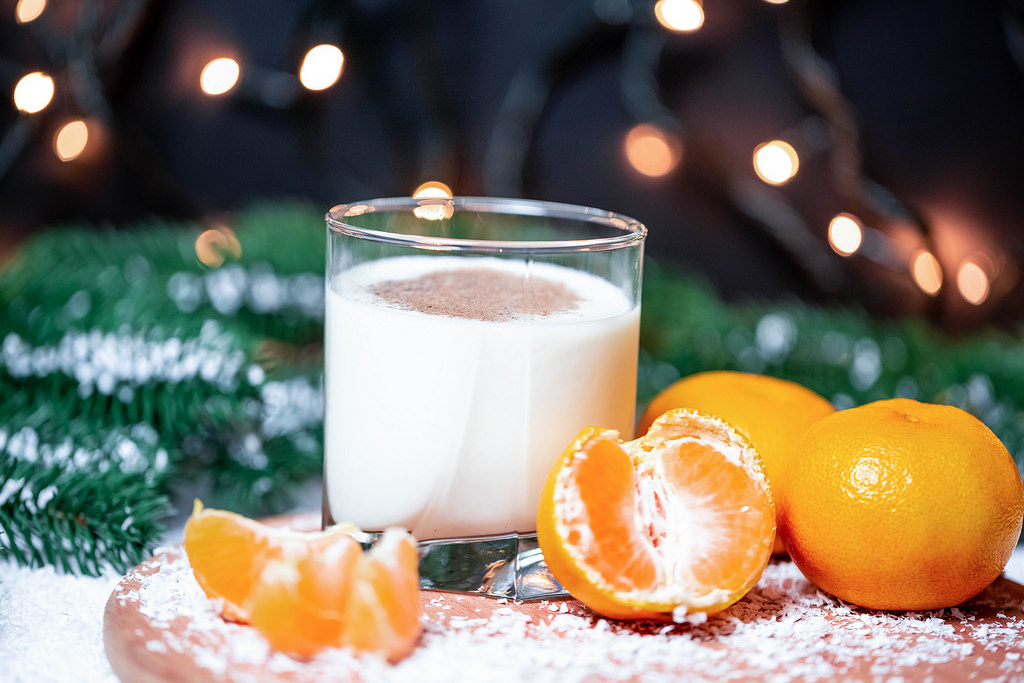glass of milk: (311, 185, 647, 542)
